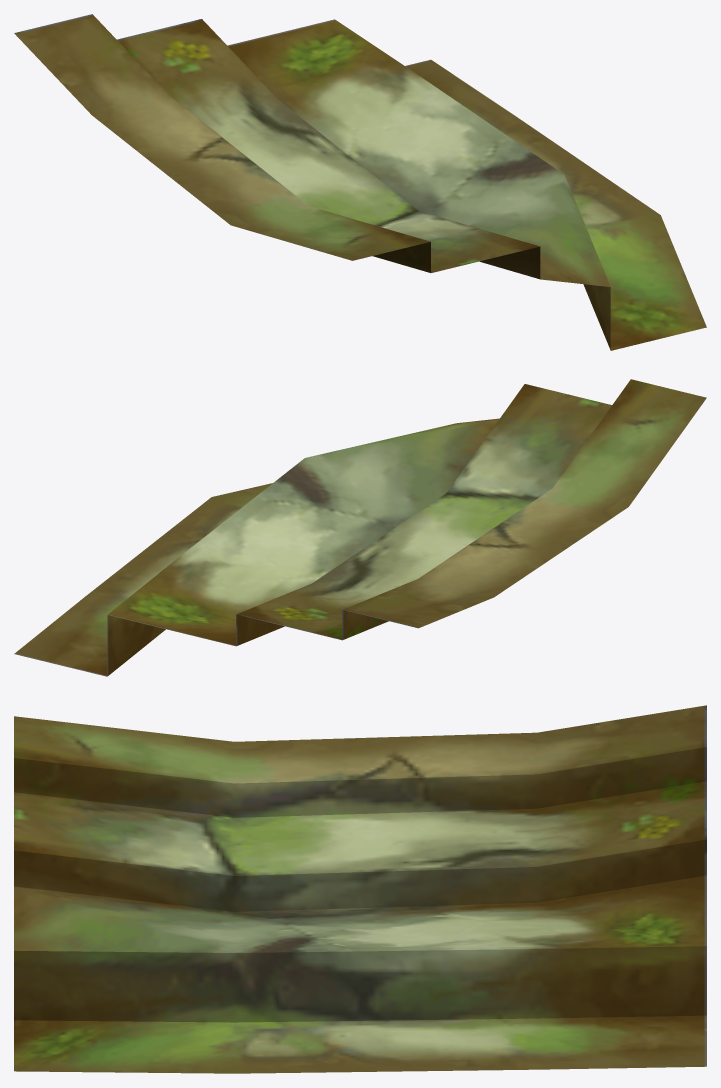
Rendered from shiti02.FBX.
The picture shows the model from 3 angles, top to bottom: view 1: azimuth 30°, elevation 25°; view 2: azimuth 150°, elevation 25°; view 3: azimuth 270°, elevation 25°; orthographic projection. The views are drawn at different scales.
Visible parts, largest first — view 1: Object02; view 2: Object02; view 3: Object02.
Part boxes in pixels (left/top/right/bottom): Object02: left=14, top=14, right=706, bottom=350; Object02: left=14, top=379, right=706, bottom=676; Object02: left=14, top=705, right=706, bottom=1073.
Bounding box in the file's own units: 14.66 × 18.77 × 4.98.
